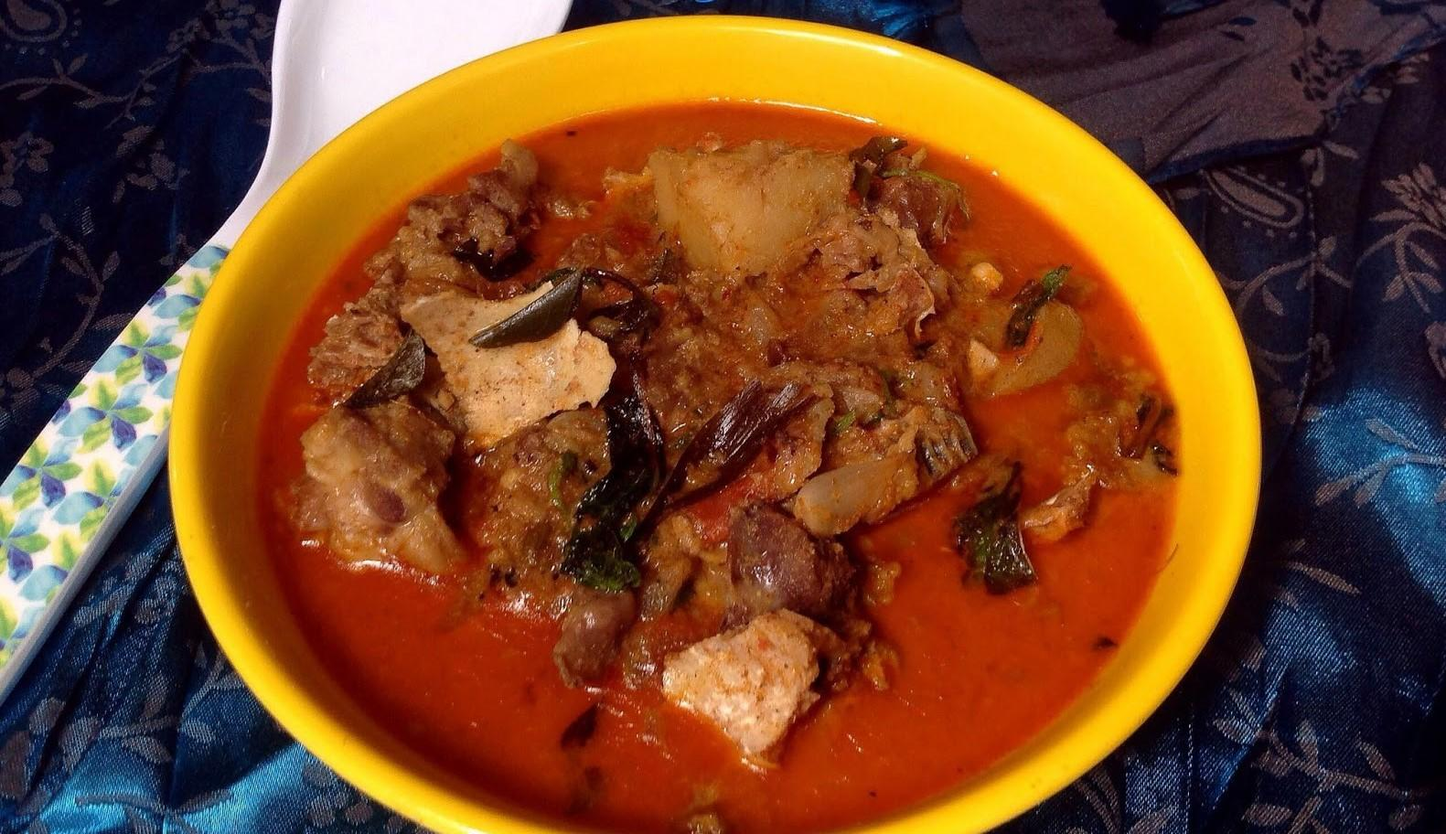MuttonCurry: (266, 104, 1180, 834)
